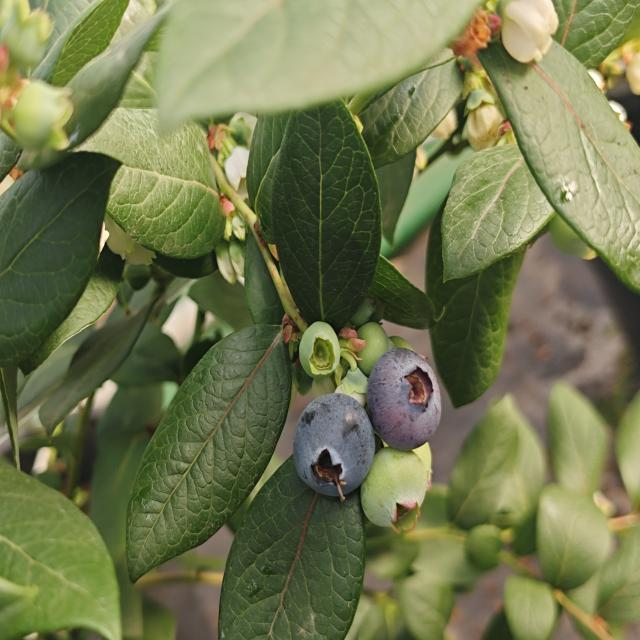ripe: (290, 391, 376, 503), (365, 346, 443, 453)
